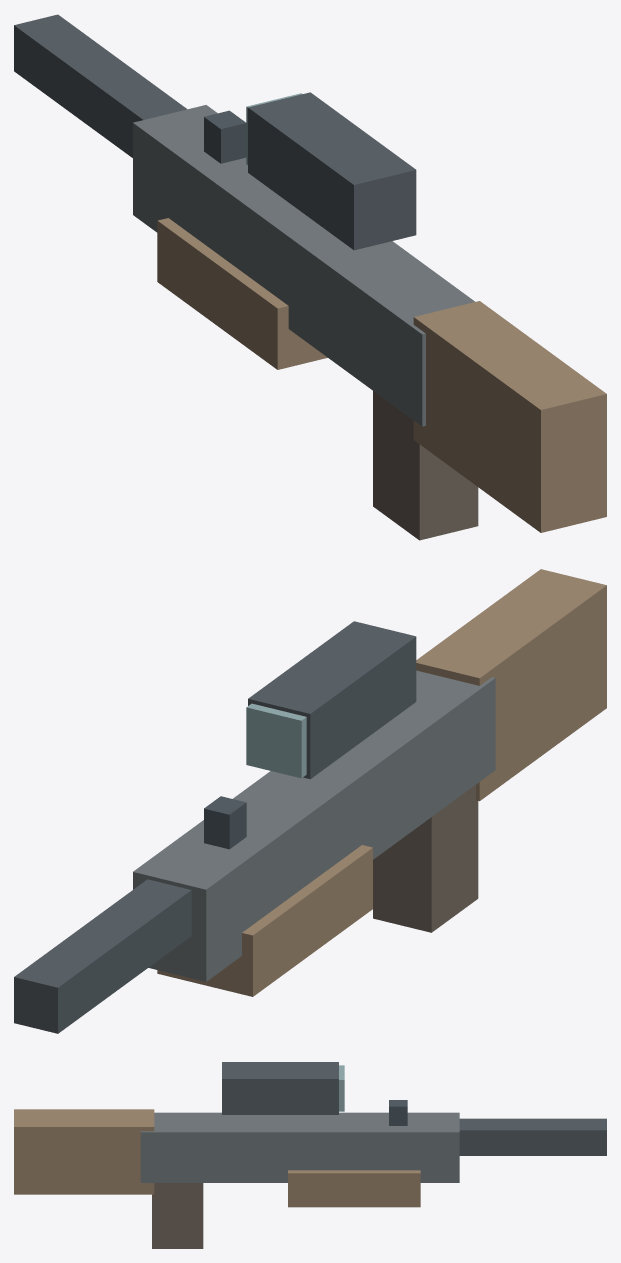
The model's file is marksman_rifle.glb.
The picture shows the model from 3 angles, top to bottom: view 1: azimuth 30°, elevation 25°; view 2: azimuth 150°, elevation 25°; view 3: azimuth 270°, elevation 25°; orthographic projection. The views are drawn at different scales.
Parts seen in each view (by area): view 1: receiver, stock, scope, barrel, handguard, grip, sight; view 2: receiver, stock, scope, barrel, grip, handguard, sight; view 3: receiver, stock, scope, barrel, handguard, grip, sight.
Part boxes in pixels (x1,y1,x2,y2): receiver: (133, 105, 474, 426); stock: (413, 301, 606, 532); scope: (246, 92, 416, 250); barrel: (14, 14, 186, 157); handguard: (157, 218, 327, 369); grip: (373, 391, 478, 540); sight: (204, 110, 246, 163); receiver: (133, 670, 495, 981); stock: (416, 569, 606, 801); scope: (246, 621, 416, 779); barrel: (14, 879, 191, 1033); grip: (373, 785, 478, 932); handguard: (157, 845, 372, 996); sight: (204, 796, 246, 849); receiver: (140, 1112, 459, 1182); stock: (14, 1109, 154, 1194); scope: (222, 1062, 344, 1114); barrel: (459, 1118, 606, 1155); handguard: (288, 1170, 420, 1207); grip: (152, 1183, 203, 1248); sight: (389, 1100, 407, 1125).
Size of the model in its own units: 0.13 by 0.4025 by 1.27.
